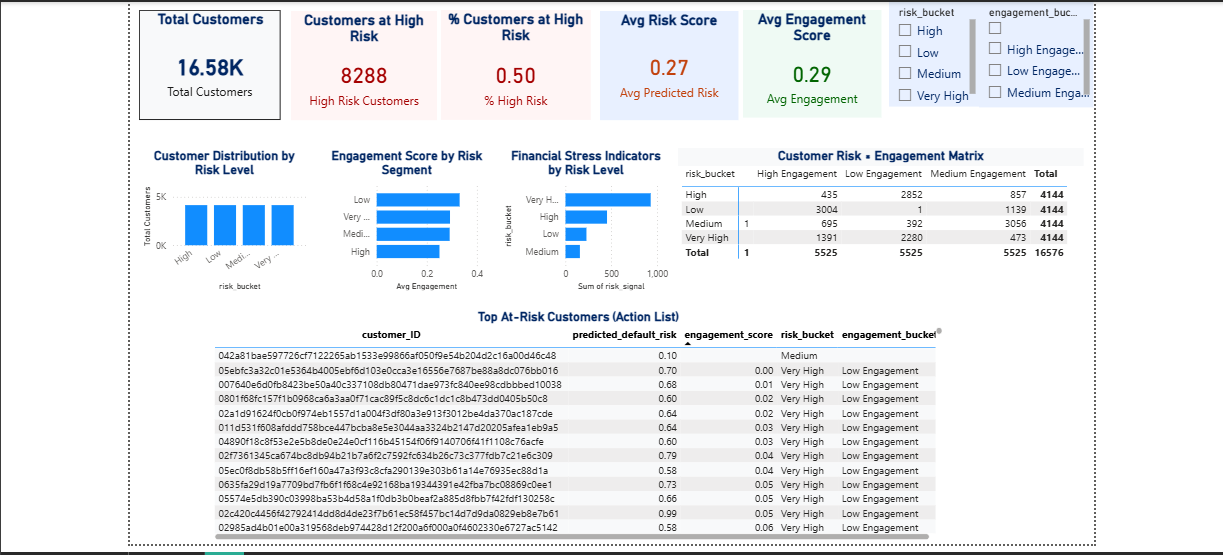

The dashboard page shown, as its layout file describes it:
{"tool":"powerbi","page":{"name":"Page 1","canvas":[1280,720],"ordinal":0},"visuals":[{"type":"card","title":"% Customers at High Risk","fields":{"Values":["Customer_Analytics.% High Risk"]},"box":[413.8,10.5,198.7,146.4],"z":0},{"type":"card","title":"Avg Risk Score","fields":{"Values":["Customer_Analytics.Avg Predicted Risk"]},"box":[624.4,12,183.7,144.9],"z":1000},{"type":"card","title":"Total Customers","fields":{"Values":["Customer_Analytics.Total Customers"]},"box":[12,10.5,188.2,146.4],"z":2000},{"type":"card","title":"Avg Engagement Score","fields":{"Values":["Customer_Analytics.Avg Engagement"]},"box":[814.1,10.5,183.7,143.4],"z":3000},{"type":"card","title":"Customers at High Risk","fields":{"Values":["Customer_Analytics.High Risk Customers"]},"box":[213.6,12,194.2,144.9],"z":4000},{"type":"columnChart","title":"Customer Distribution by Risk Level","fields":{"Category":["Customer_Analytics.risk_bucket"],"Y":["Customer_Analytics.Total Customers"]},"box":[12,194.2,227.1,194.2],"z":5000},{"type":"clusteredBarChart","title":"Engagement Score by Risk Segment","fields":{"Category":["Customer_Analytics.risk_bucket"],"Y":["Customer_Analytics.Avg Engagement"]},"box":[261.4,194.2,212.1,194.2],"z":6000},{"type":"clusteredBarChart","title":"Financial Stress Indicators by Risk Level","fields":{"Category":["Customer_Analytics.risk_bucket"],"Y":["Sum(Customer_Analytics.risk_signal)"]},"box":[491.5,194.2,228.5,194.2],"z":7000},{"type":"pivotTable","title":"Customer Risk × Engagement Matrix","fields":{"Rows":["Customer_Analytics.risk_bucket"],"Columns":["Customer_Analytics.engagement_bucket"],"Values":["Customer_Analytics.Total Customers"]},"box":[727.5,194.2,539.3,194.2],"z":8000},{"type":"tableEx","title":"Top At-Risk Customers (Action List)","fields":{"Values":["Customer_Analytics.customer_ID","Customer_Analytics.predicted_default_risk","Customer_Analytics.engagement_score","Customer_Analytics.risk_bucket","Customer_Analytics.engagement_bucket"]},"box":[106.1,407.8,978.4,312.2],"z":9000},{"type":"slicer","fields":{"Values":["Customer_Analytics.risk_bucket"]},"box":[1008.3,0,119.5,138.9],"z":10000},{"type":"slicer","fields":{"Values":["Customer_Analytics.engagement_bucket"]},"box":[1127.8,0,152.4,140.4],"z":11000}]}

Visuals, with their boxes on the page's 1280x720 design canvas (x1, y1, x2, y2). These are canvas units, not pixel positions in the 1223x555 screenshot, which may show the page scaled, cropped or inside an application window:
"% Customers at High Risk" card: select_region(414, 10, 612, 157)
"Avg Risk Score" card: select_region(624, 12, 808, 157)
"Total Customers" card: select_region(12, 10, 200, 157)
"Avg Engagement Score" card: select_region(814, 10, 998, 154)
"Customers at High Risk" card: select_region(214, 12, 408, 157)
"Customer Distribution by Risk Level" columnChart: select_region(12, 194, 239, 388)
"Engagement Score by Risk Segment" clusteredBarChart: select_region(261, 194, 474, 388)
"Financial Stress Indicators by Risk Level" clusteredBarChart: select_region(492, 194, 720, 388)
"Customer Risk × Engagement Matrix" pivotTable: select_region(728, 194, 1267, 388)
"Top At-Risk Customers (Action List)" tableEx: select_region(106, 408, 1084, 720)
slicer - Customer_Analytics.risk_bucket: select_region(1008, 0, 1128, 139)
slicer - Customer_Analytics.engagement_bucket: select_region(1128, 0, 1280, 140)
